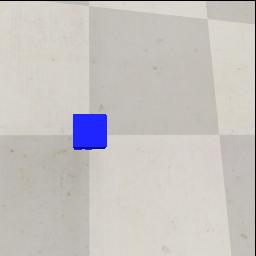box: (73, 113, 108, 150)
